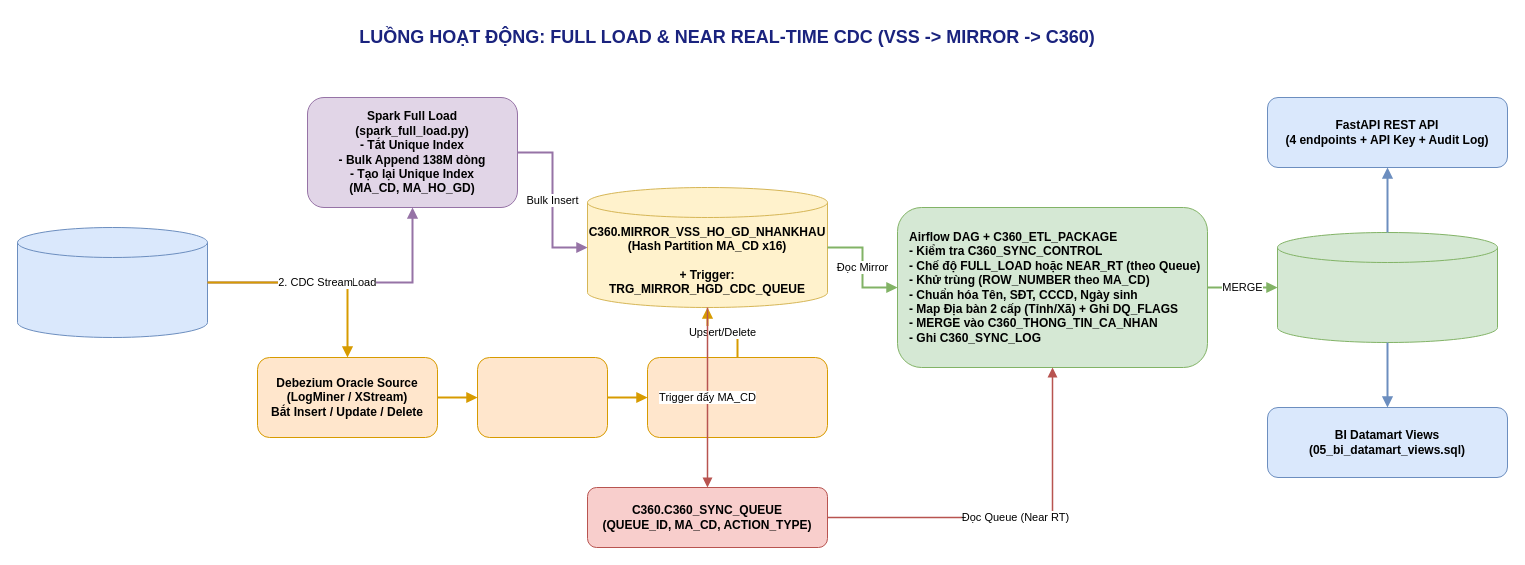
This 1525x565 diagram has some shape labels left out. Each missing label, with the centre of its shape:
"Apache Kafka (Topics CDC)" goes at point (542, 397).
"C360.C360_THONG_TIN_CA_NHAN (1 dòng duy nhất / MA_CD)" goes at point (1387, 287).
"JDBC Sink Connector MERGE (Upsert/Delete) theo (MA_CD, MA_HO_GD)" goes at point (737, 397).
"Oracle Source (VSS) VSS.VSS_HO_GD_NHANKHAU VSS.VSS_DM_DBHC" goes at point (112, 282).
